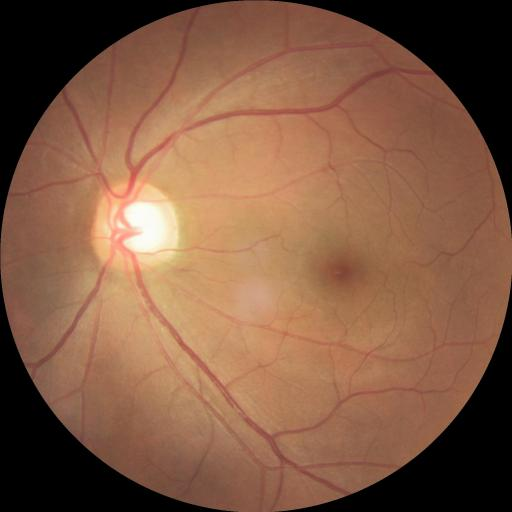Optic Cup: (113, 202, 164, 252)
Optic Disc: (93, 182, 178, 272)
